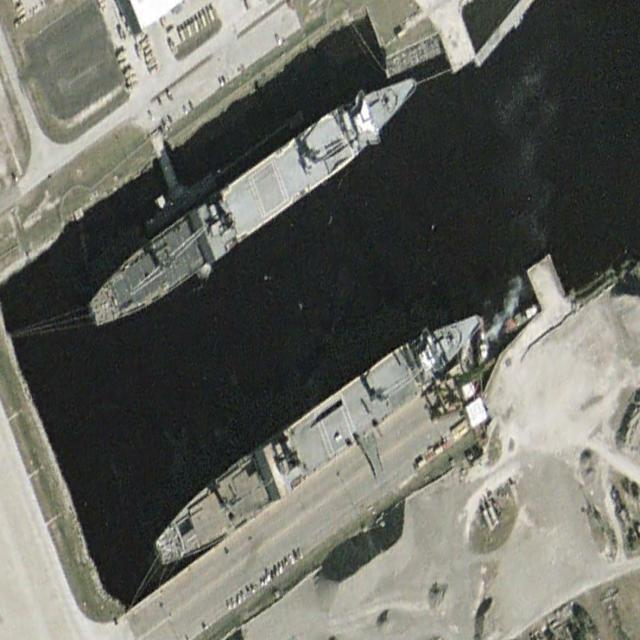Cargo: (145, 295, 495, 580), (82, 55, 428, 341)
